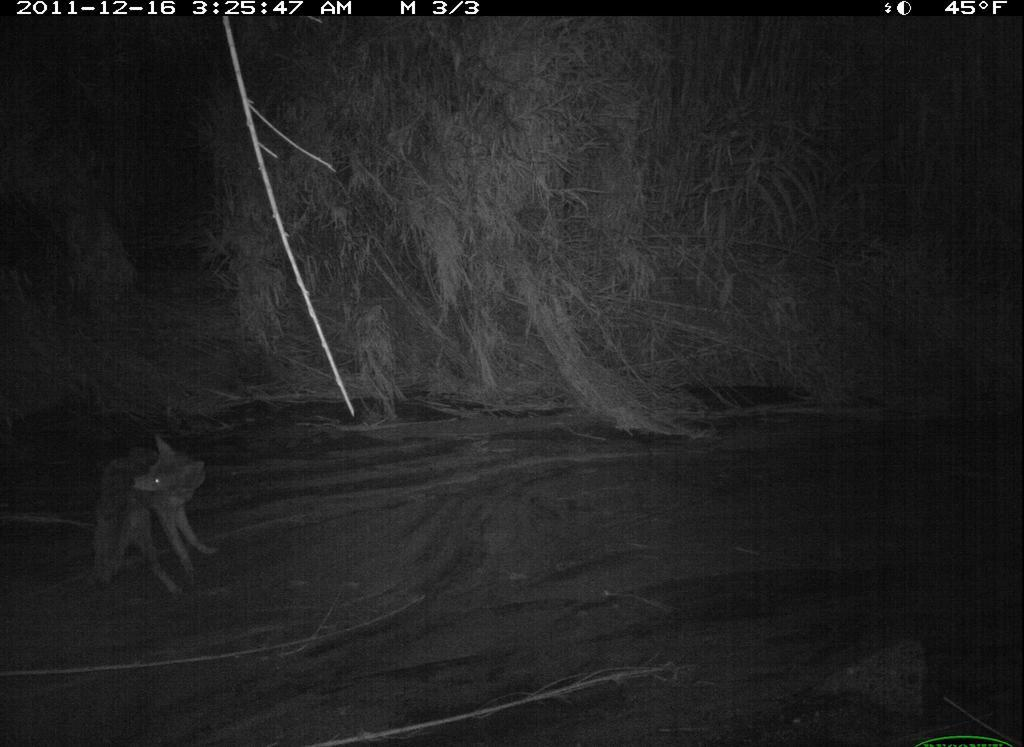coyote: (85, 427, 226, 611)
